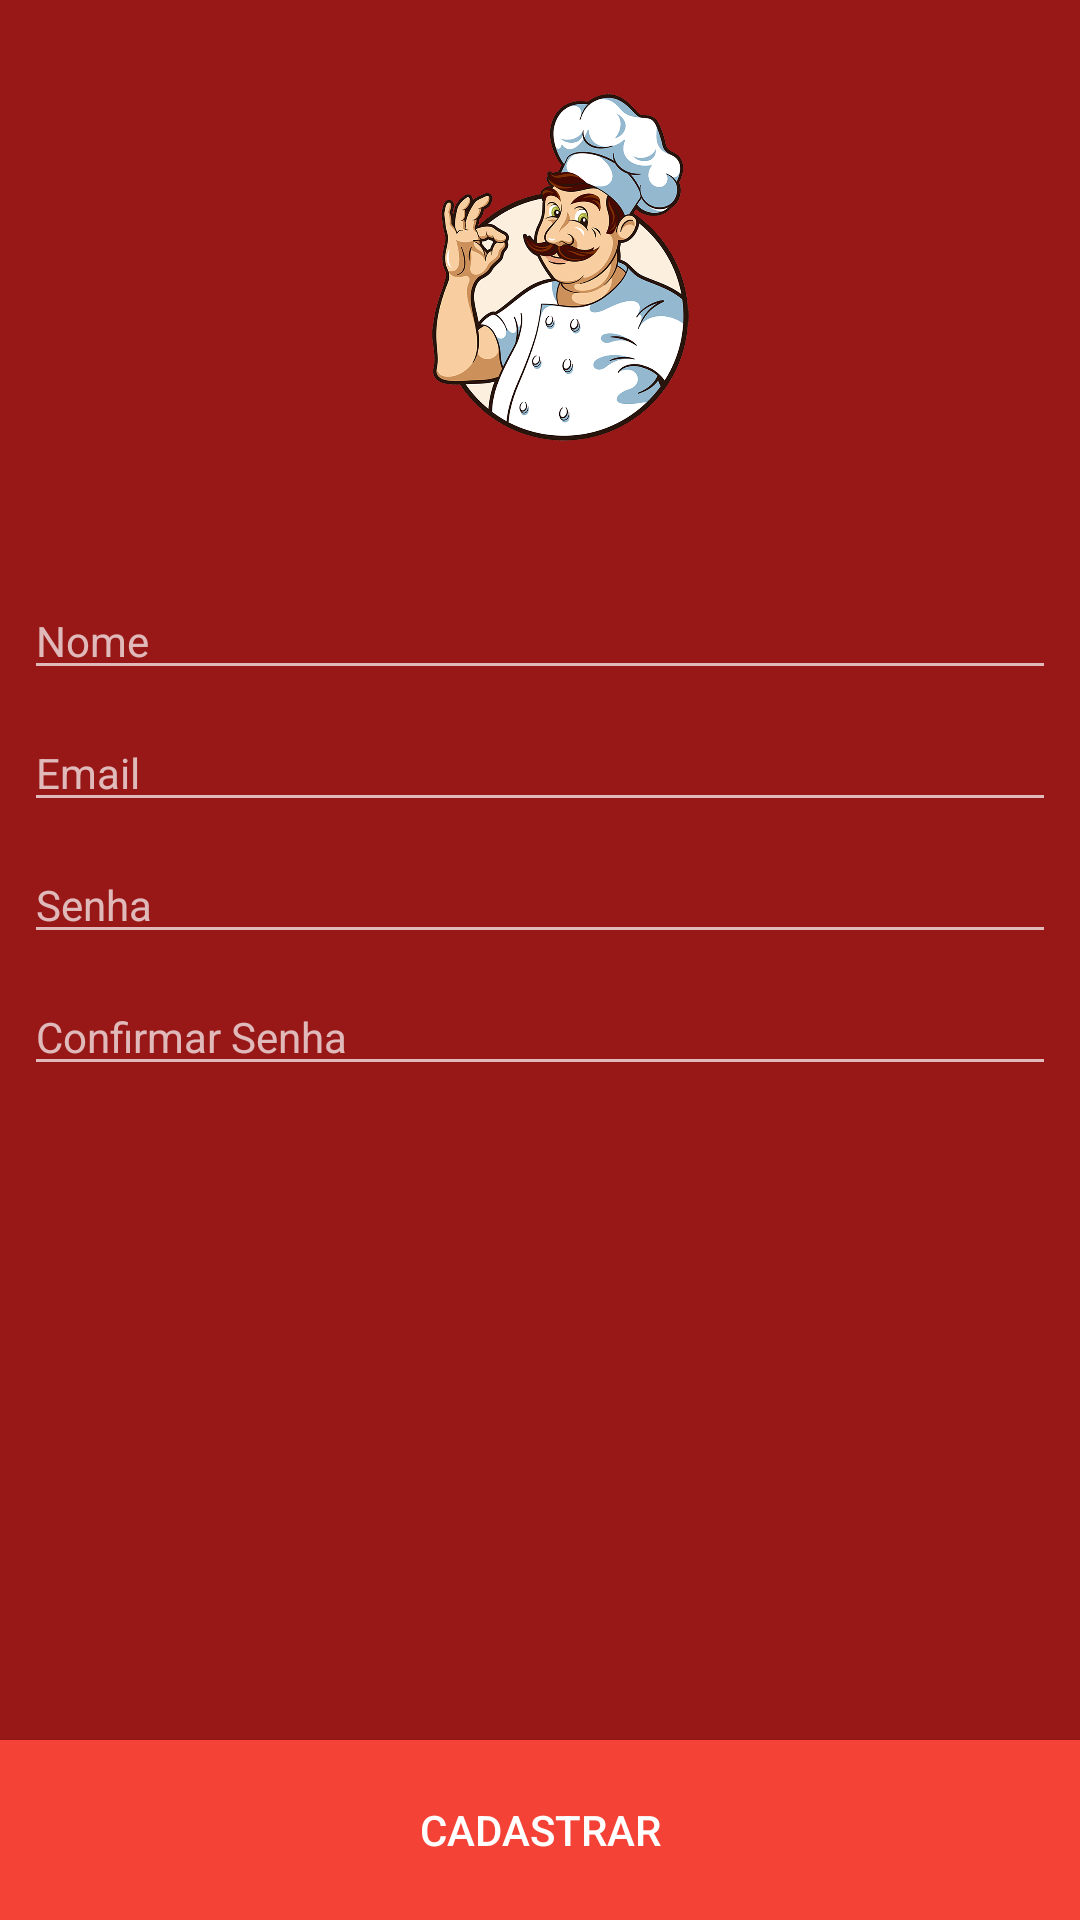

Named icons in this screenshot (1080 x 1920) and their bounding boxes, (x1, y1, x2, y2):
Restaurante do Chef: (432, 93, 689, 441)
